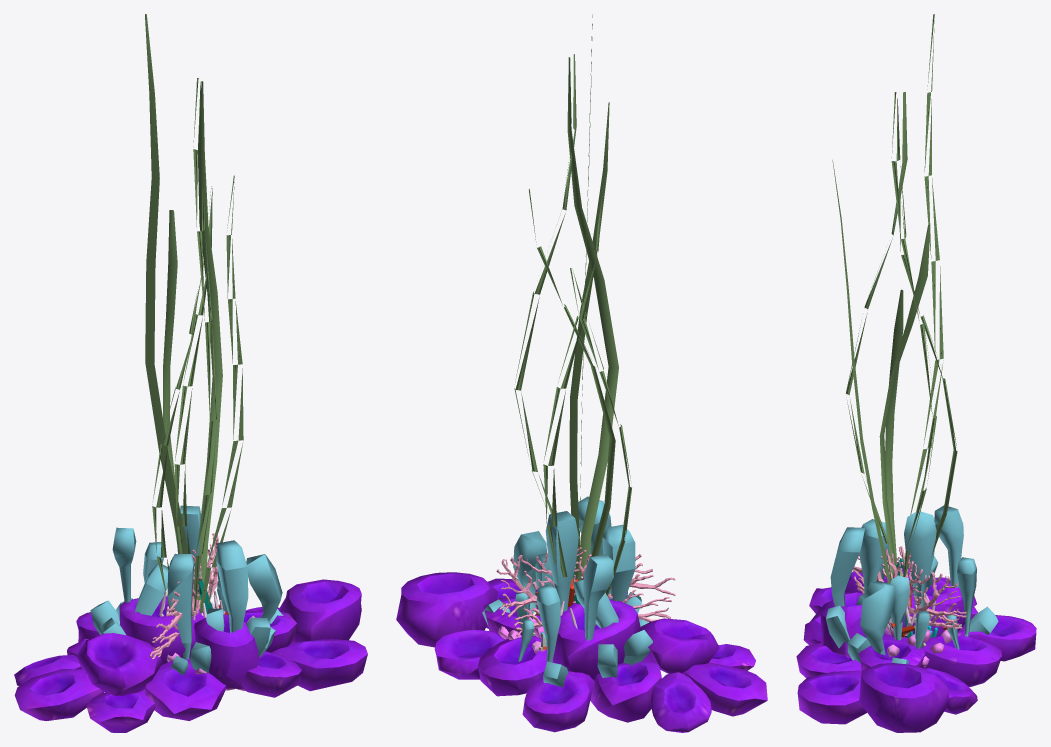
The model's file is plants.glb.
3 views of the same model, side by side, from view 1: azimuth 30°, elevation 25°; view 2: azimuth 150°, elevation 25°; view 3: azimuth 270°, elevation 25° (orthographic). The views are drawn at different scales.
Visible parts, largest first — view 1: node_id73, node_id71, node_id67, group1533979519; view 2: node_id73, node_id71, node_id67, group1533979519; view 3: node_id73, node_id67, node_id71, group1533979519, node_id63.
Boxes of the visible parts, x1,y1,x2,y2 form: node_id73: [14, 579, 367, 732]; node_id71: [145, 14, 243, 613]; node_id67: [90, 505, 283, 675]; group1533979519: [149, 533, 219, 659]; node_id73: [396, 572, 767, 732]; node_id71: [514, 14, 631, 608]; node_id67: [482, 496, 652, 687]; group1533979519: [496, 547, 675, 636]; node_id73: [796, 562, 1036, 732]; node_id67: [826, 505, 998, 664]; node_id71: [832, 14, 957, 600]; group1533979519: [853, 546, 966, 629]; node_id63: [884, 625, 951, 667].
Bounding box in the file's own units: 5.58 × 10.28 × 3.45.
Materials: 16 (4 with a texture image).
